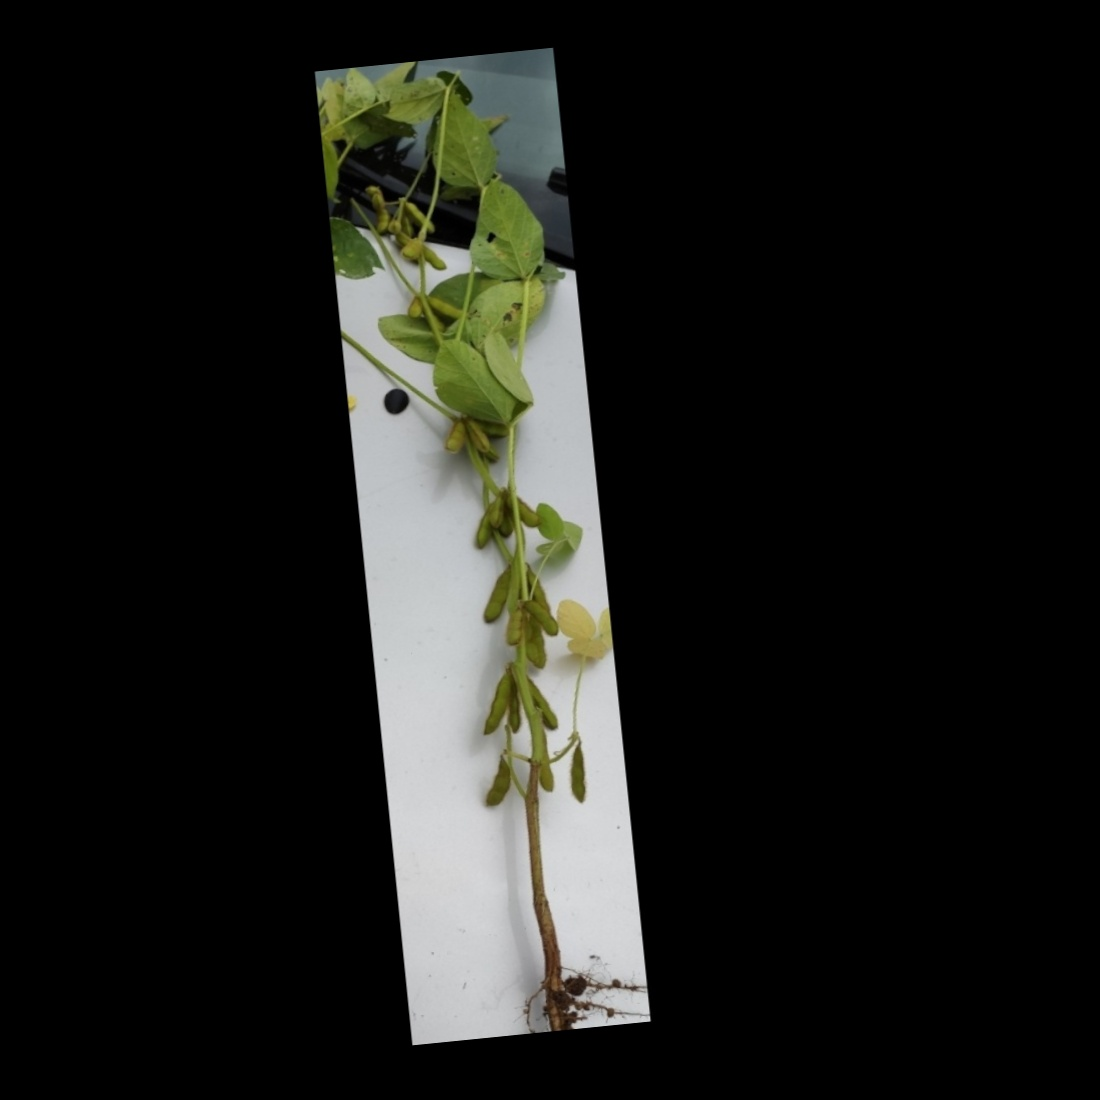pod: (477, 674, 516, 739), (473, 568, 517, 624), (479, 754, 518, 812), (522, 596, 563, 640), (565, 741, 591, 807), (402, 195, 434, 237), (440, 417, 470, 456)
soy: (321, 65, 639, 1060)
